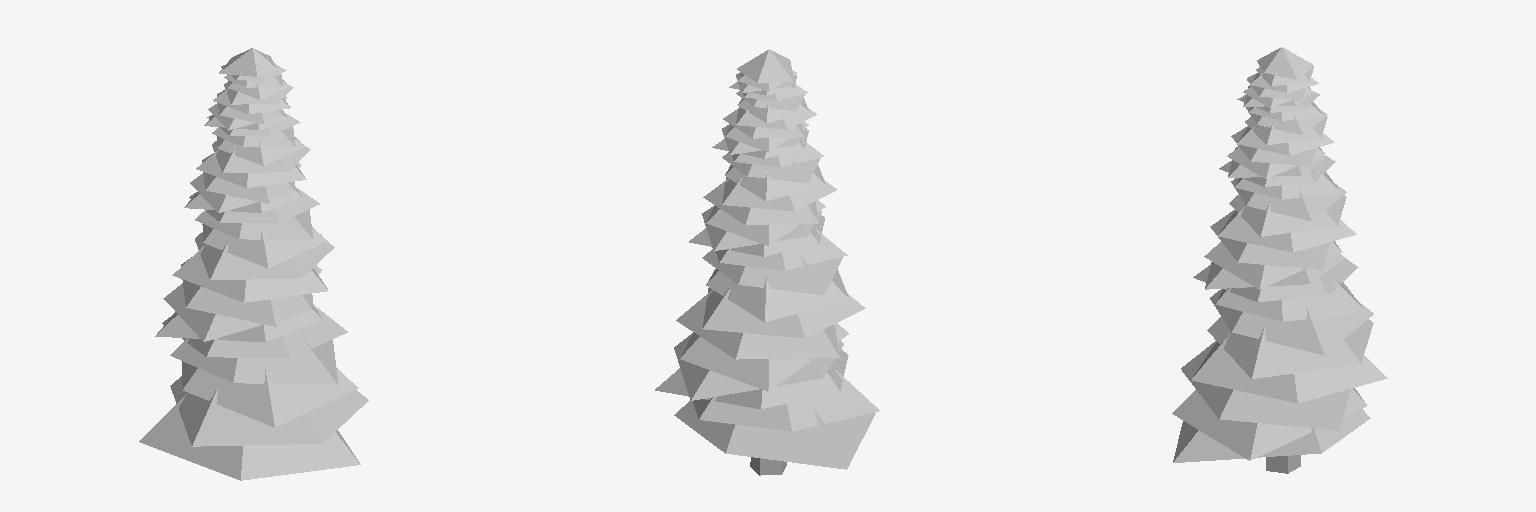
Rendered from tree.obj.
3 views of the same model, side by side, from view 1: azimuth 30°, elevation 25°; view 2: azimuth 150°, elevation 25°; view 3: azimuth 270°, elevation 25° (orthographic).
Visible parts, largest first — view 1: tree; view 2: tree; view 3: tree.
Boxes of the visible parts, <box> form: tree: <box>139,48,368,480</box>; tree: <box>655,49,879,475</box>; tree: <box>1172,47,1387,473</box>.
Size of the model in its own units: 5.84 by 12 by 5.58.